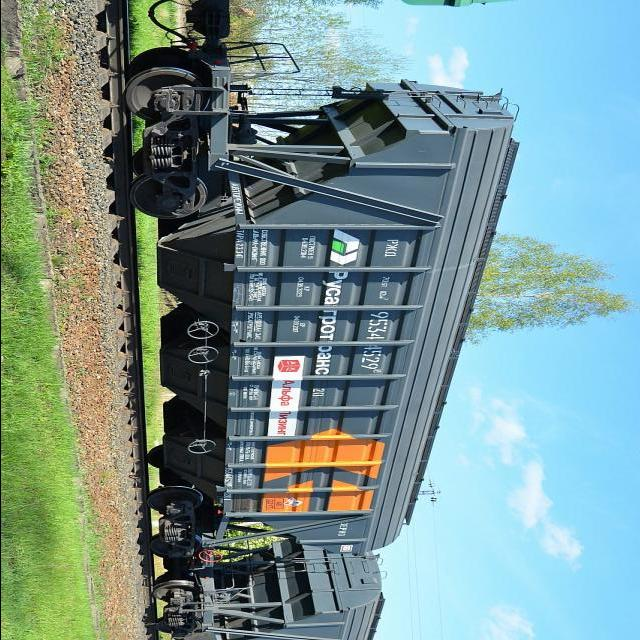wagon: (357, 311, 391, 370)
